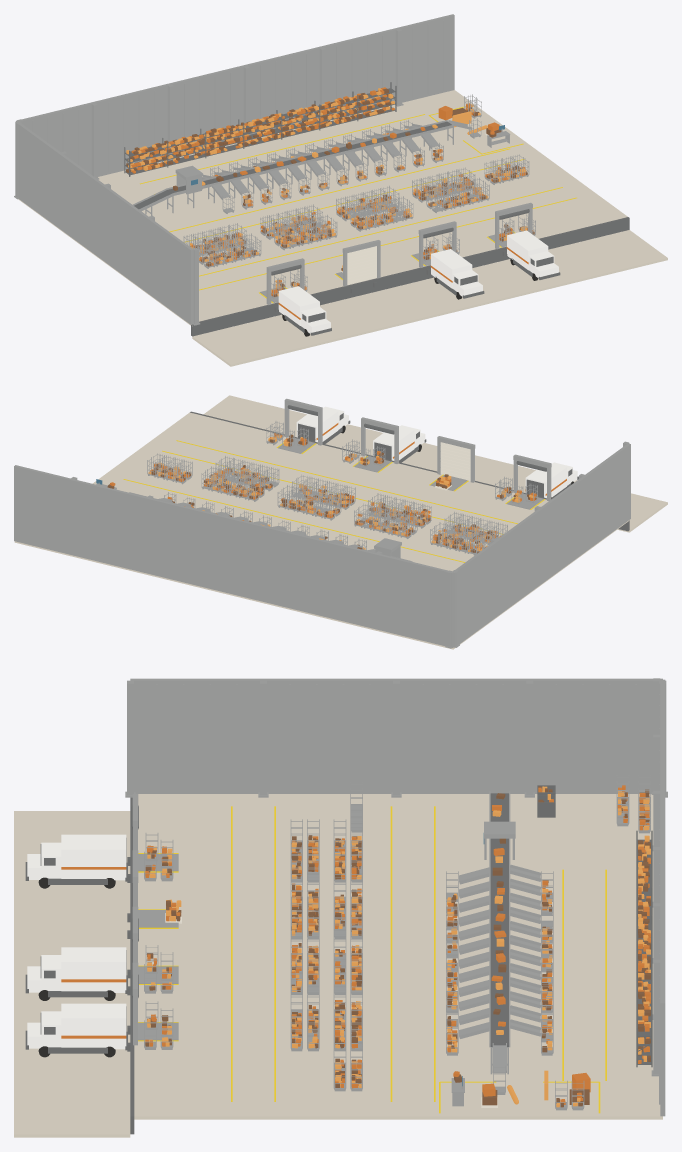
The model's file is parcel.glb.
The picture shows the model from 3 angles, top to bottom: view 1: azimuth 30°, elevation 25°; view 2: azimuth 150°, elevation 25°; view 3: azimuth 270°, elevation 25°; orthographic projection. The views are drawn at different scales.
Parts seen in each view (by area): view 1: hall_floor, hall_wall_y, lane_yard, hall_wall_x, dock_face, hall_cols_y, van_0_body, van_1_body, van_2_body, dock_1_shutter, stage_2_3_cages, stage_0_3_cages (+22 smaller); view 2: hall_wall_y, hall_floor, hall_wall_x, lane_yard, dock_1_shutter, van_2_body, van_1_body, van_0_body, stage_1_0_cages, stage_3_0_cages, stage_2_0_cages, stage_0_0_cages (+26 smaller); view 3: hall_floor, hall_wall_x, lane_yard, van_2_body, van_0_body, van_1_body, hall_cols_x, hall_wall_y, hall_cols_y, dock_face, lane_1_0, dock_1_cages (+5 smaller).
Boxes of the visible parts, left/top/right/bottom form: hall_floor: left=18, top=90, right=627, bottom=326; hall_wall_y: left=16, top=14, right=454, bottom=176; lane_yard: left=192, top=230, right=667, bottom=366; hall_wall_x: left=15, top=121, right=193, bottom=324; dock_face: left=191, top=217, right=629, bottom=336; hall_cols_y: left=14, top=29, right=403, bottom=199; van_0_body: left=278, top=286, right=330, bottom=333; van_1_body: left=431, top=249, right=482, bottom=296; van_2_body: left=507, top=230, right=558, bottom=277; dock_1_shutter: left=347, top=246, right=376, bottom=284; stage_2_3_cages: left=355, top=200, right=413, bottom=231; stage_0_3_cages: left=203, top=237, right=261, bottom=268; hall_wall_y: left=14, top=465, right=453, bottom=647; hall_floor: left=14, top=412, right=629, bottom=649; hall_wall_x: left=453, top=443, right=630, bottom=647; lane_yard: left=203, top=395, right=667, bottom=532; dock_1_shutter: left=440, top=442, right=470, bottom=481; van_2_body: left=296, top=406, right=348, bottom=442; van_1_body: left=373, top=425, right=425, bottom=460; van_0_body: left=525, top=462, right=577, bottom=498; stage_1_0_cages: left=354, top=507, right=411, bottom=538; stage_3_0_cages: left=201, top=470, right=259, bottom=501; stage_2_0_cages: left=277, top=489, right=335, bottom=520; stage_0_0_cages: left=430, top=526, right=488, bottom=555; hall_floor: left=134, top=794, right=662, bottom=1119; hall_wall_x: left=130, top=678, right=662, bottom=793; lane_yard: left=14, top=811, right=130, bottom=1137; van_2_body: left=27, top=1003, right=126, bottom=1049; van_0_body: left=27, top=834, right=126, bottom=880; van_1_body: left=27, top=947, right=126, bottom=992; hall_cols_x: left=125, top=680, right=667, bottom=797; hall_wall_y: left=659, top=679, right=665, bottom=1116; hall_cols_y: left=651, top=678, right=660, bottom=1076; dock_face: left=130, top=797, right=134, bottom=1134; lane_1_0: left=390, top=806, right=392, bottom=1101; dock_1_cages: left=144, top=945, right=173, bottom=993.
Bounding box in the file's own units: 46.31 × 8.92 × 39.31.
